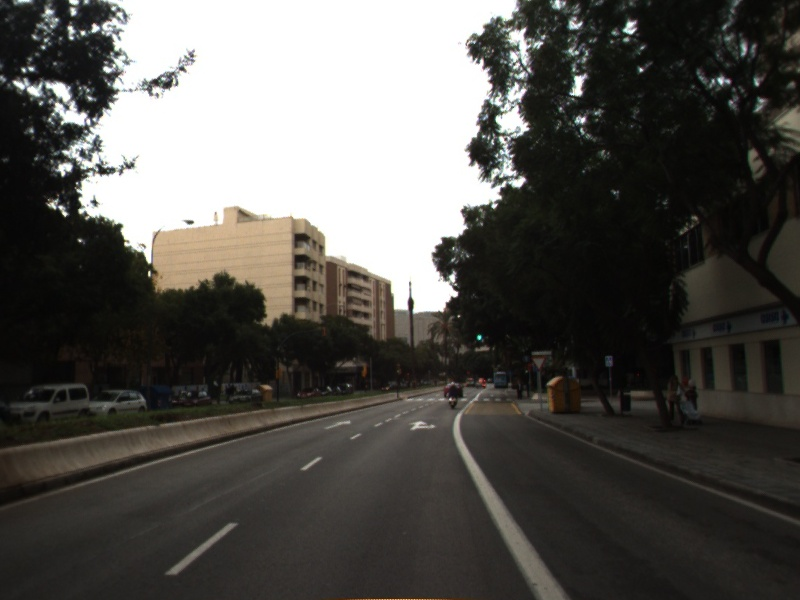STRAIGHT: (322, 417, 353, 431)
STRAIGHT_RIGHT: (407, 419, 439, 433)
